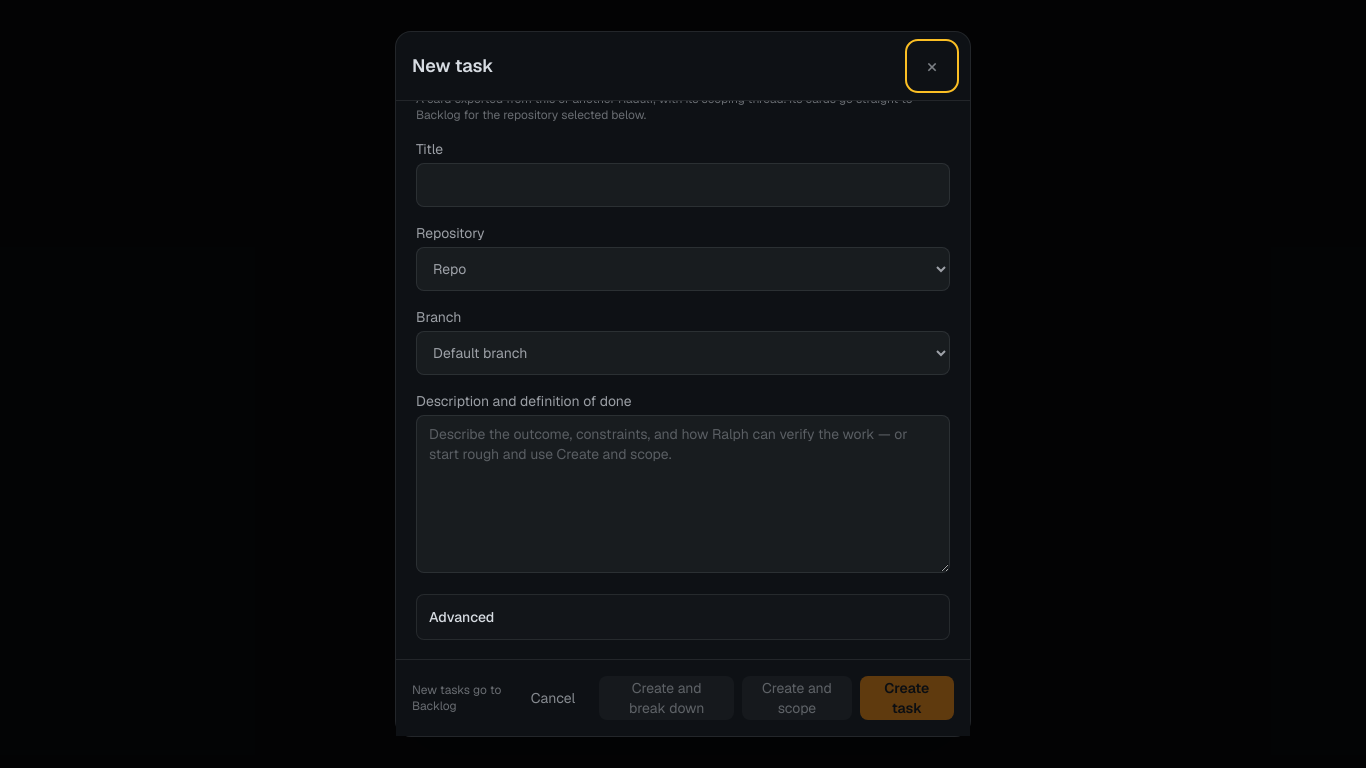
NewTaskDialog › Open a pull request instead of merging › is disabled, naming the login, when gh is not authenticated
(page scrolled)
Click the heading "Advanced".
click(462, 617)  # box [429, 608, 494, 626]
(page scrolled)
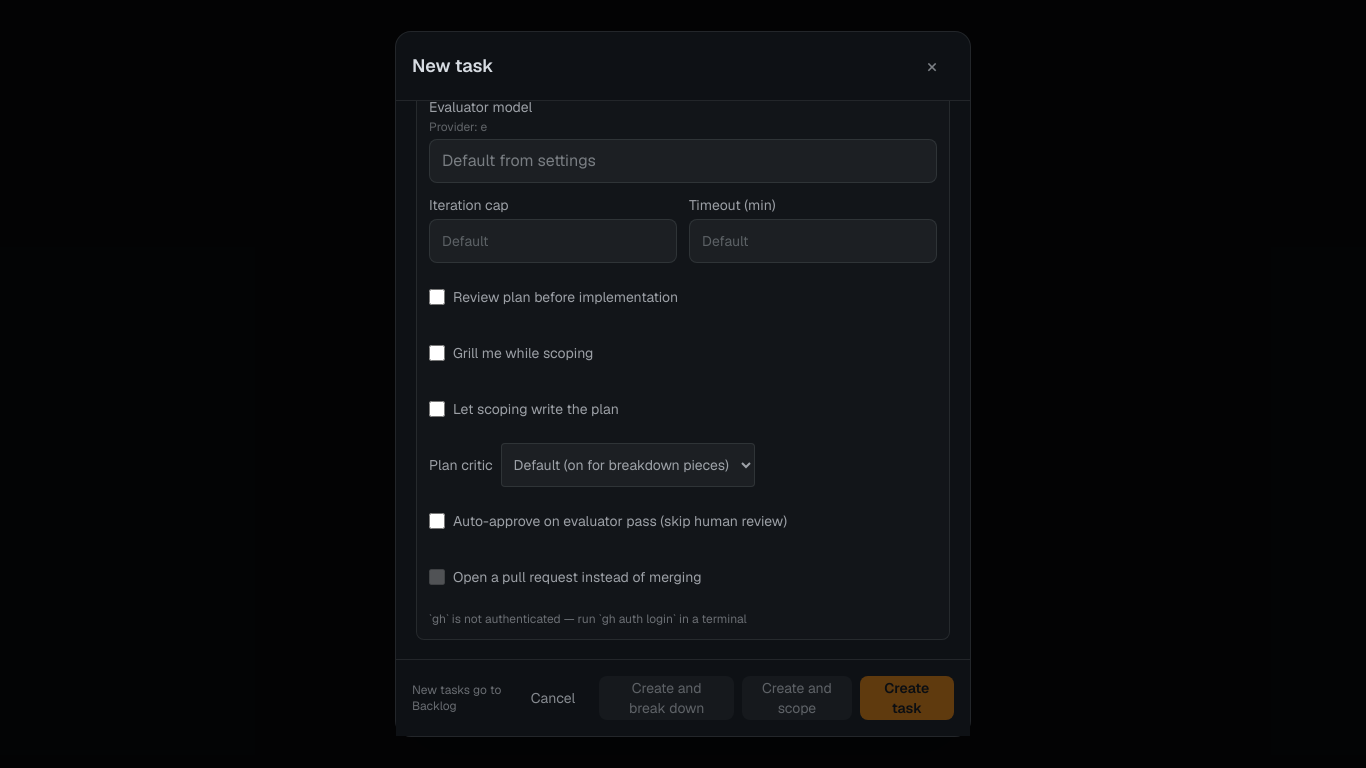
expect the text "gh auth login" is shown: met, box [429, 611, 747, 627]
expect the checkbox labelled "Open a pull request instead of merging" is disabled: met, box [429, 569, 445, 585]
